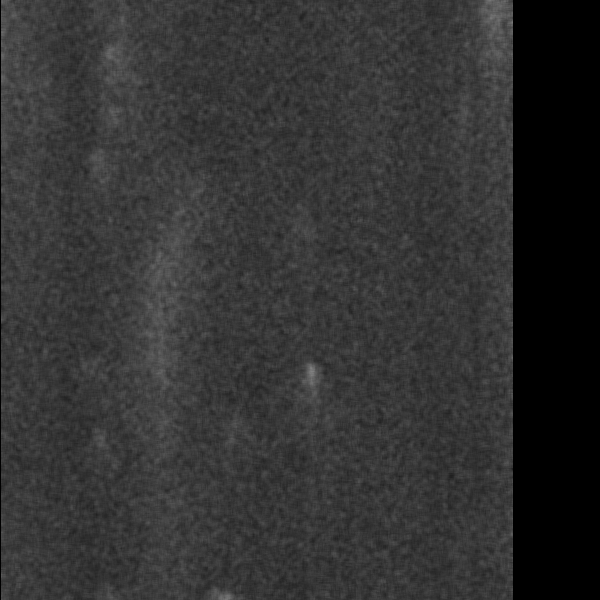spark: (99, 40, 118, 137), (303, 358, 322, 433)
